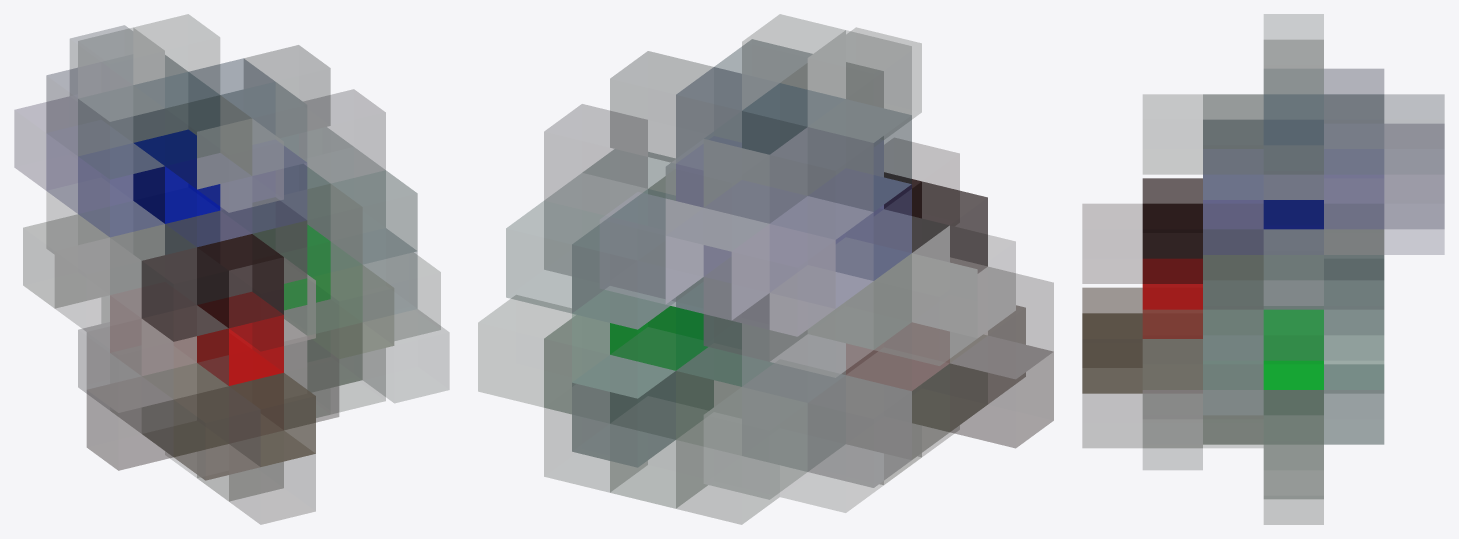
The model's file is iter_5.obj.
The picture shows the model from 3 angles, left to right: view 1: azimuth 30°, elevation 25°; view 2: azimuth 150°, elevation 25°; view 3: azimuth 270°, elevation 25°; orthographic projection. The views are drawn at different scales.
Visible parts, largest first — view 1: iter_5; view 2: iter_5; view 3: iter_5.
Part boxes in pixels (x1,y1,x2,y2): iter_5: [14, 14, 448, 524]; iter_5: [478, 14, 1053, 524]; iter_5: [1082, 14, 1444, 524].
Size of the model in its own units: 0.7 by 0.7 by 0.6.
